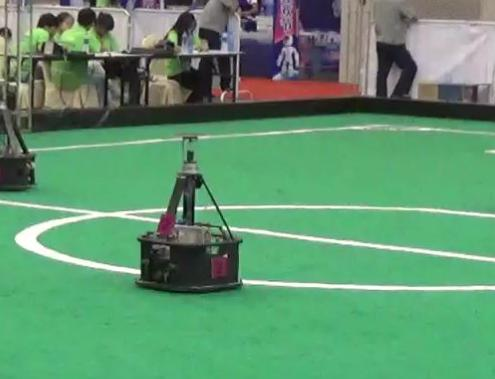robot: (136, 130, 245, 293)
